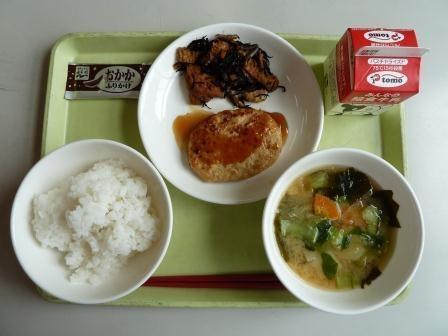Meat: (177, 105, 289, 189)
Milk: (327, 16, 428, 121)
Rice: (11, 152, 163, 289)
Soups: (276, 158, 419, 304)
salad with sauce: (166, 27, 276, 105)
